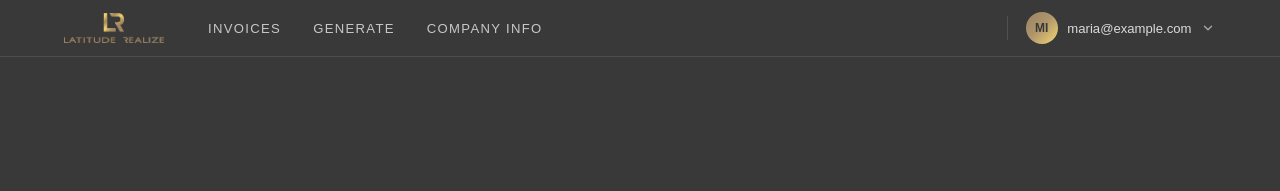
it: NavbarComponent › closes the account dropdown on an outside click
Click the button with class "nav__acct" at (1122, 28), box x1=1020 y1=6 x2=1224 y2=50
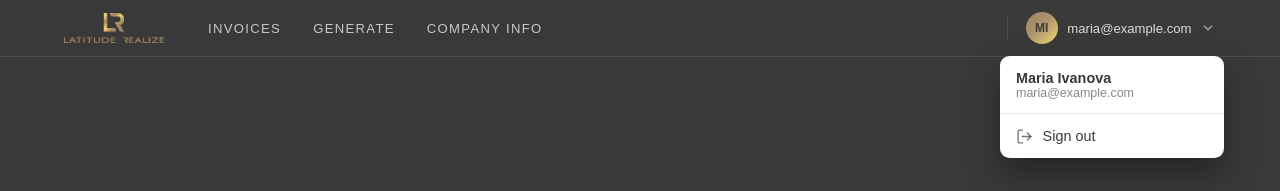
Result: the menu with class "nav__dropdown" is shown at x1=1000 y1=56 x2=1224 y2=158
Click the link with class "nav__brand" at (114, 28), box x1=56 y1=6 x2=172 y2=50
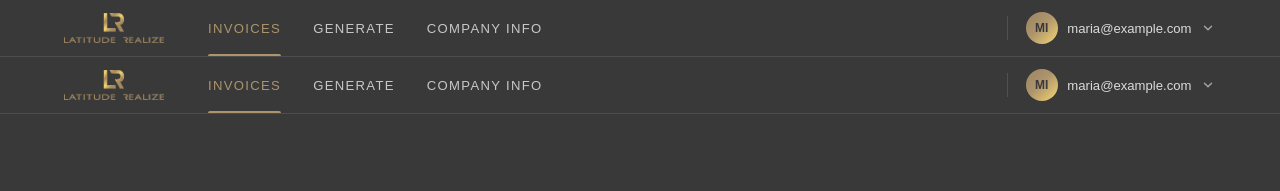
Result: the menu with class "nav__dropdown" is gone
